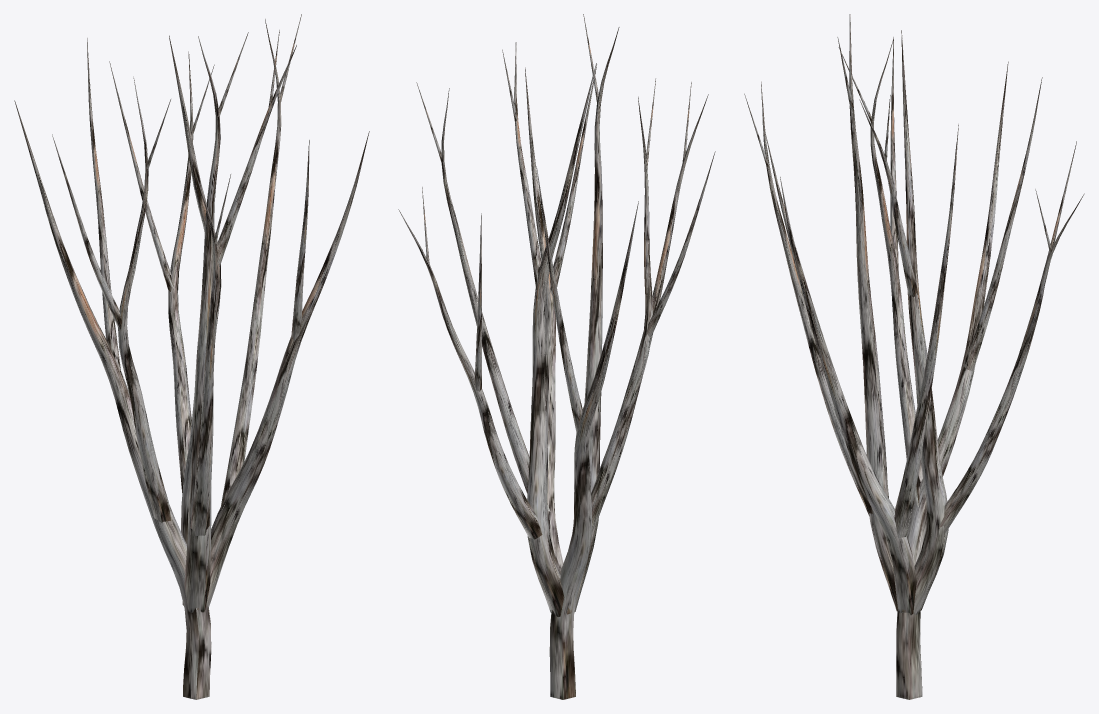
The model's file is No Leaves 2 Light.fbx.
3 views of the same model, side by side, from view 1: azimuth 30°, elevation 25°; view 2: azimuth 150°, elevation 25°; view 3: azimuth 270°, elevation 25° (orthographic). The views are drawn at different scales.
Parts seen in each view (by area): view 1: Tree No Leaves 2 Light; view 2: Tree No Leaves 2 Light; view 3: Tree No Leaves 2 Light.
Part boxes in pixels (box(x1,y1,x2,y2)): Tree No Leaves 2 Light: box(14, 14, 369, 699); Tree No Leaves 2 Light: box(398, 14, 715, 699); Tree No Leaves 2 Light: box(744, 14, 1084, 699).
Size of the model in its own units: 212 by 492 by 228.
1 material, 1 textured.
